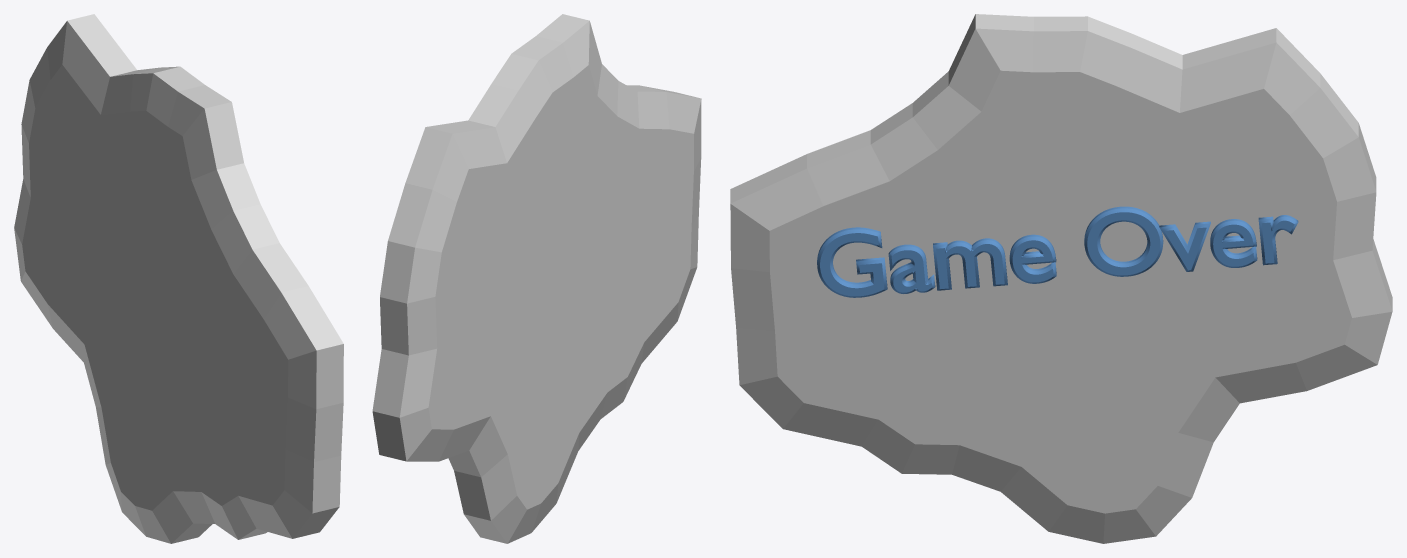
Rendered from MRUIGameOver.fbx.
3 renders of one model, left to right at view 1: azimuth 30°, elevation 25°; view 2: azimuth 150°, elevation 25°; view 3: azimuth 270°, elevation 25°, orthographic. The views are drawn at different scales.
Parts seen in each view (by area): view 1: GameOverTile; view 2: GameOverTile; view 3: GameOverTile, Gameover.
Boxes of the visible parts, box(x1,y1,x2,y2) form: GameOverTile: box(14, 14, 343, 543); GameOverTile: box(372, 14, 701, 543); GameOverTile: box(730, 14, 1392, 543); Gameover: box(817, 206, 1298, 297).
Bounding box in the file's own units: 34.95 × 292 × 340.
